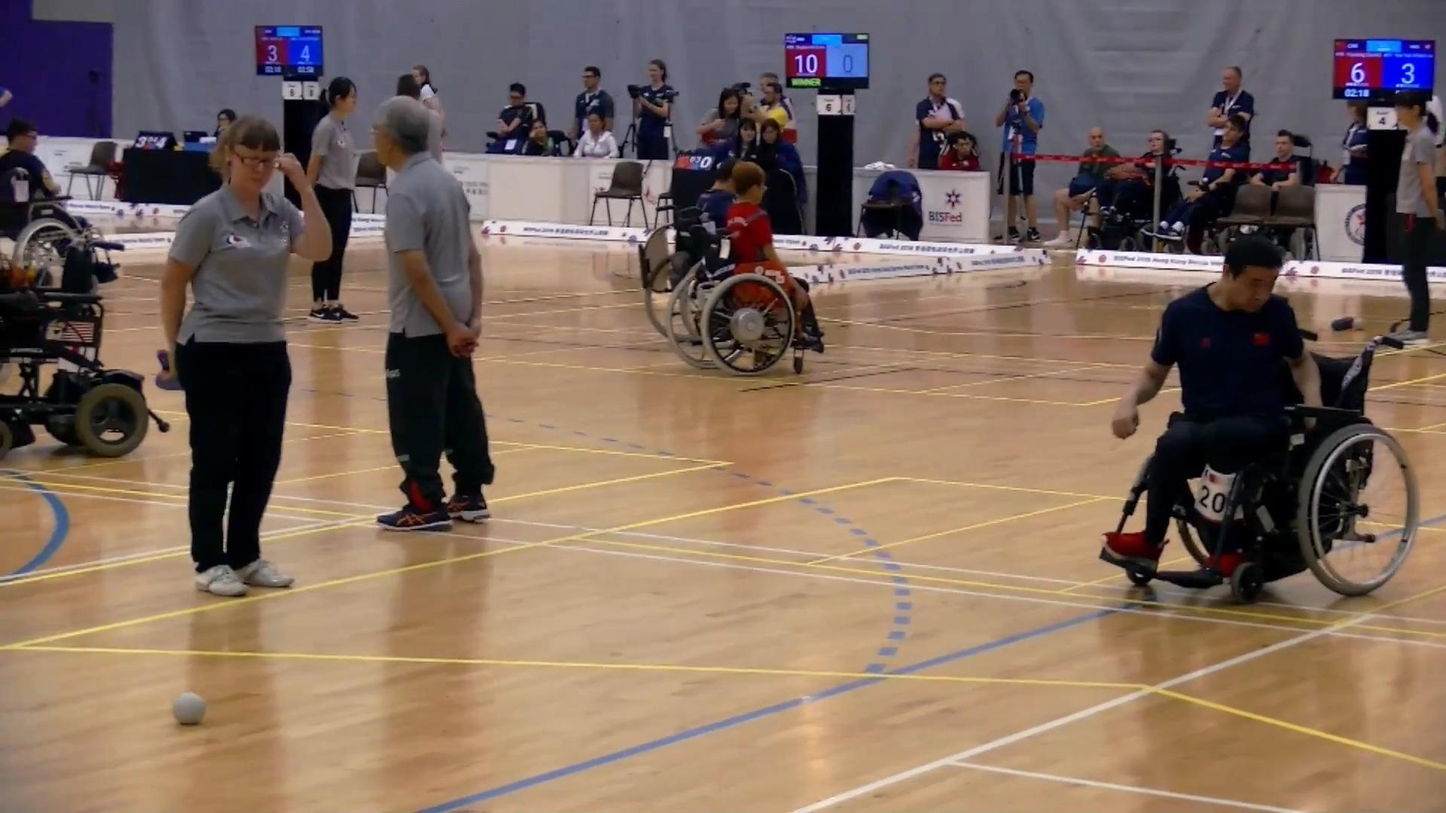white_ball: (170, 690, 208, 729)
